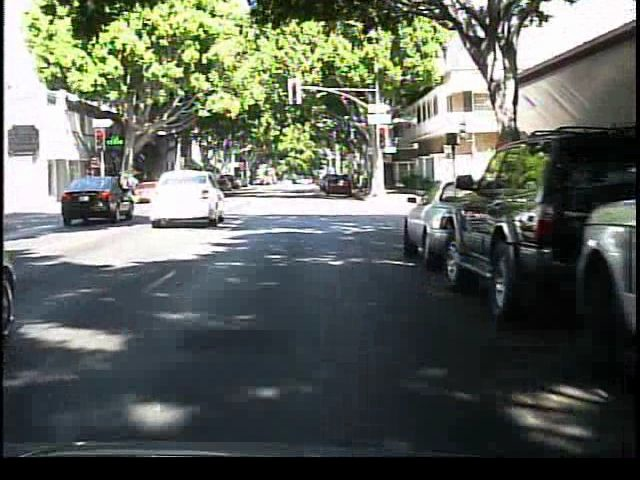person: (124, 161, 148, 199)
